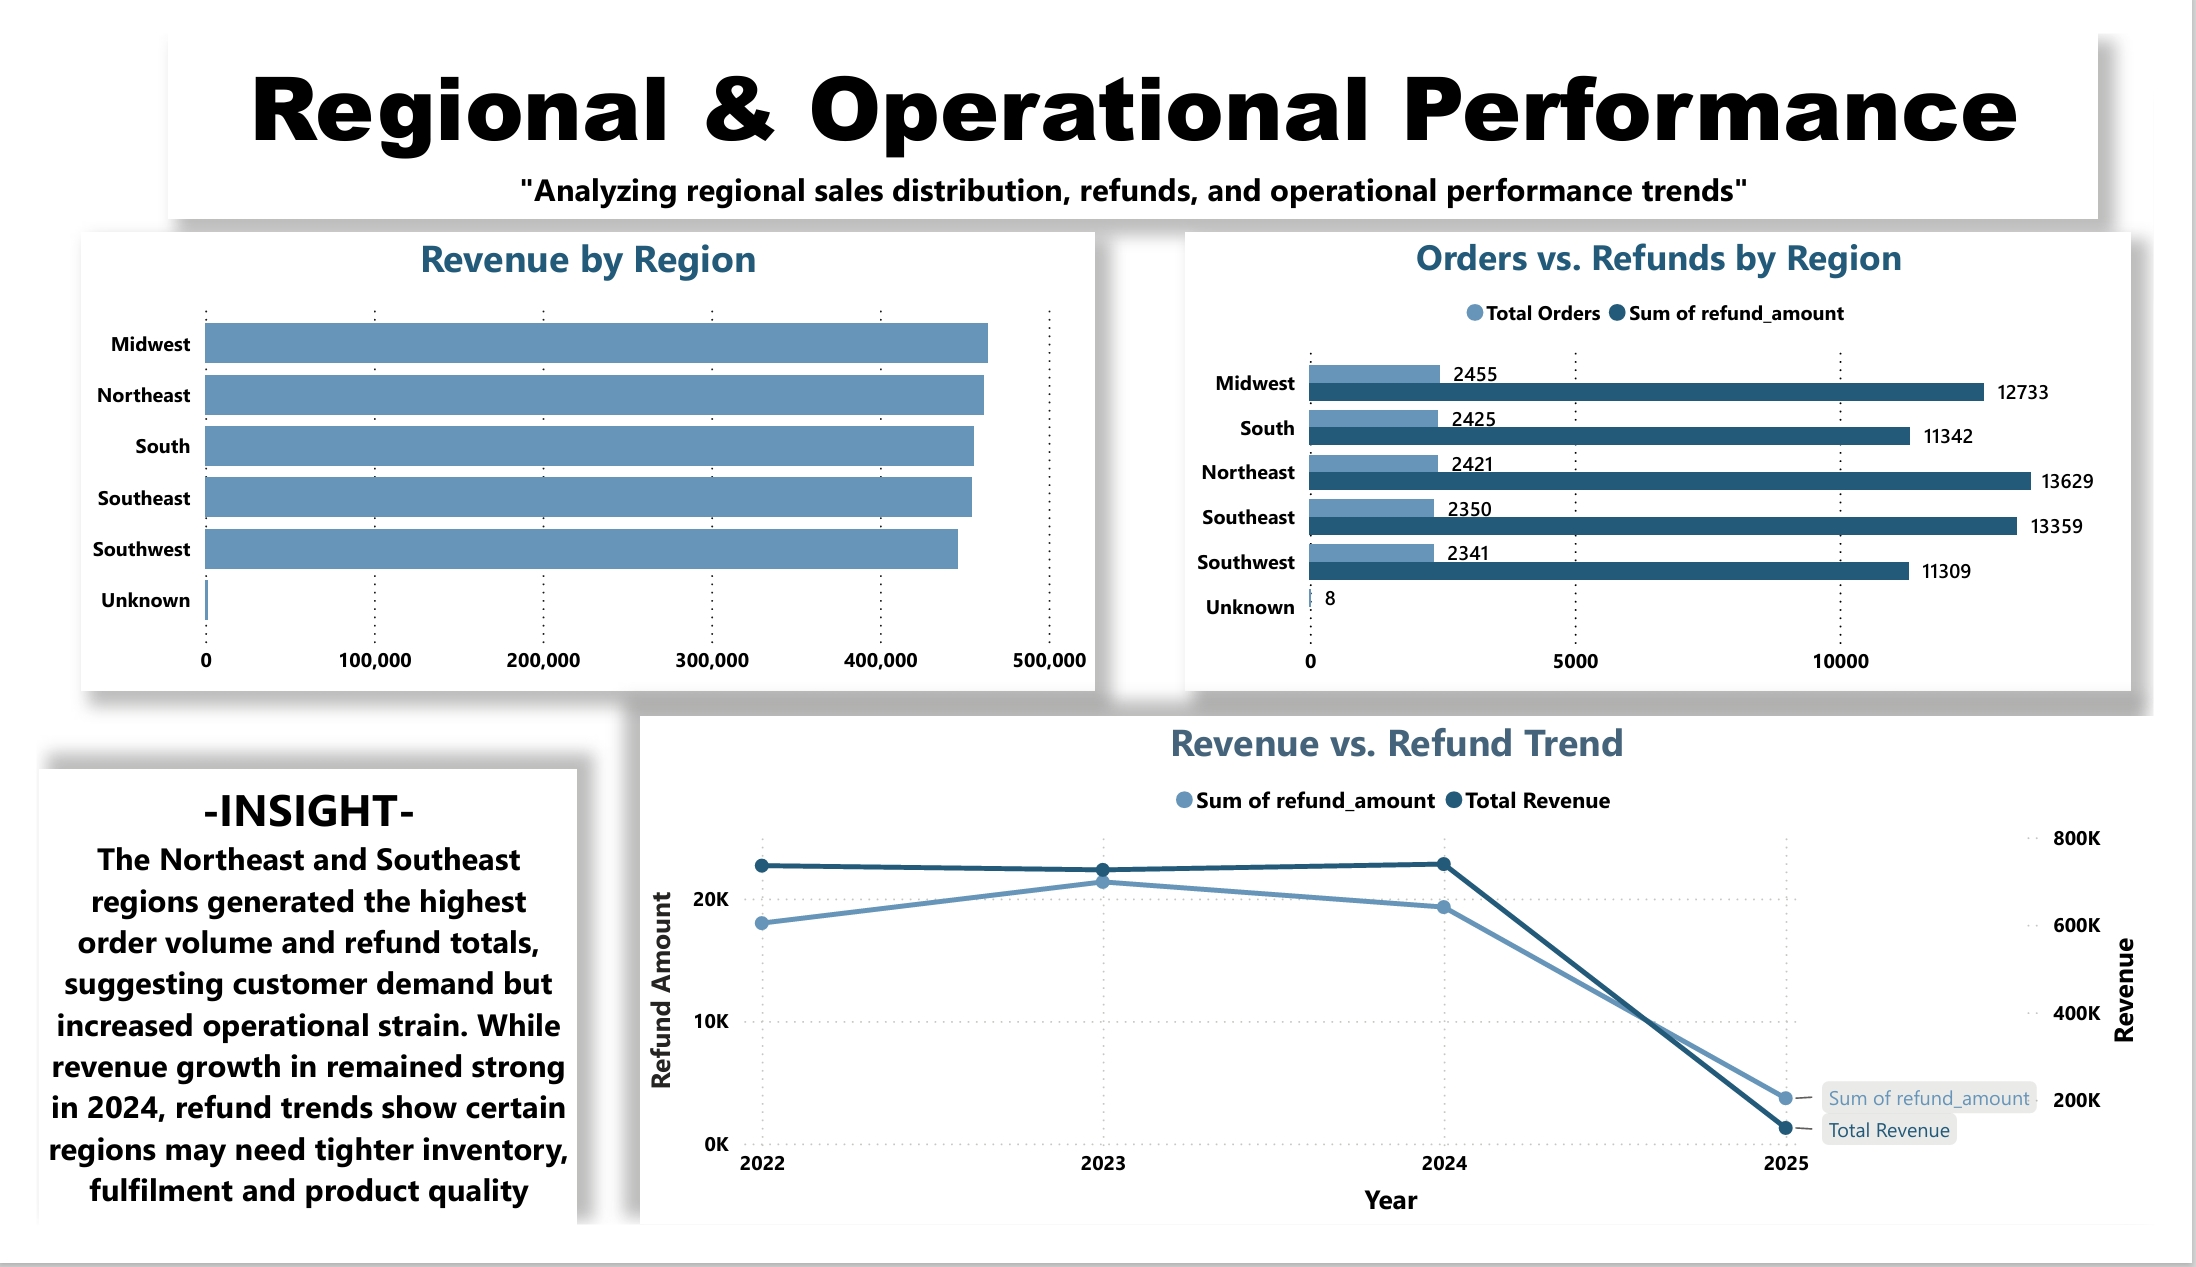

The dashboard page shown, as its layout file describes it:
{"tool":"powerbi","page":{"name":"Regional & Operational Performance","canvas":[1280,720],"ordinal":3},"visuals":[{"type":"textbox","box":[80,0,1166.7,111.7],"z":0},{"type":"clusteredBarChart","title":"Revenue by Region","fields":{"Y":["Sum(orders.total_revenue)"],"Category":["orders.shipping_region"]},"box":[26.7,120,613.3,276.7],"z":1000},{"type":"textbox","box":[1.7,445,325,276.7],"z":2000},{"type":"clusteredBarChart","title":"Orders vs. Refunds by Region","fields":{"Category":["orders.shipping_region"],"Y":["KPI_Measures.Total Orders","Sum(orders.refund_amount)"]},"box":[695,120,571.7,276.7],"z":3000},{"type":"lineChart","title":"Revenue vs. Refund Trend","fields":{"Category":["orders.Order Month Date.Variation.Date Hierarchy.Year","orders.Order Month Date.Variation.Date Hierarchy.Quarter","orders.Order Month Date.Variation.Date Hierarchy.Month","orders.Order Month Date.Variation.Date Hierarchy.Day"],"Y":["Sum(orders.refund_amount)"],"Y2":["KPI_Measures.Total Revenue"]},"box":[365,413.3,915,306.7],"z":4000}]}

Visuals, with their boxes in screenshot pixels (x1, y1, x2, y2), scaled from the page's 1280x720 canvas onto the 2196x1267 screenshot:
textbox: (137,0,2139,197)
"Revenue by Region" clusteredBarChart: (46,211,1098,698)
textbox: (3,783,560,1266)
"Orders vs. Refunds by Region" clusteredBarChart: (1192,211,2173,698)
"Revenue vs. Refund Trend" lineChart: (626,727,2195,1266)
